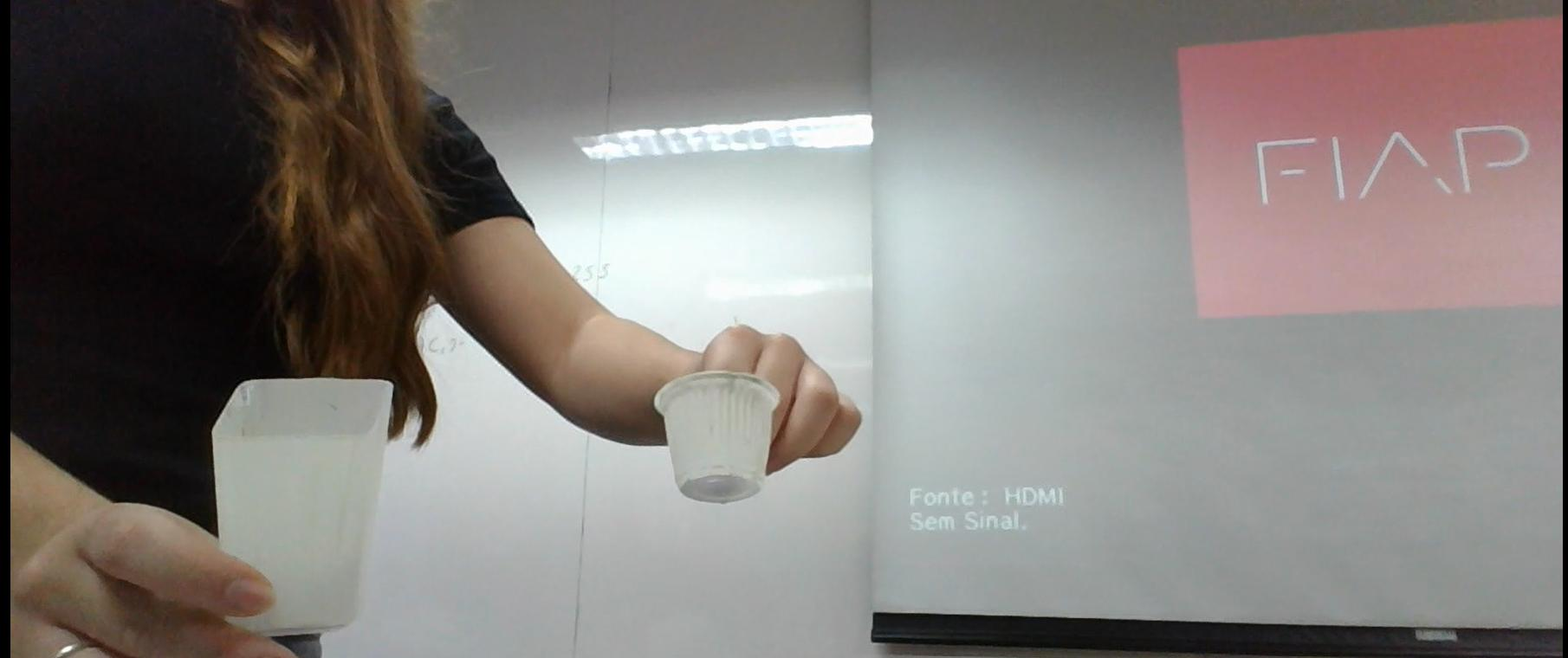erva_daninha: (211, 374, 396, 639)
planta: (652, 371, 783, 506)
